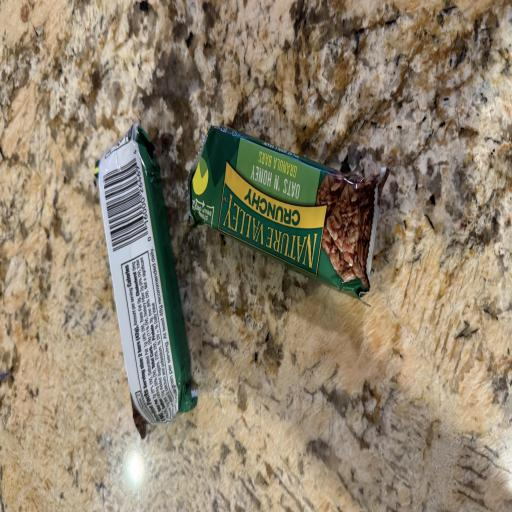chocolate: (189, 127, 387, 298)
granola: (96, 125, 197, 437)
